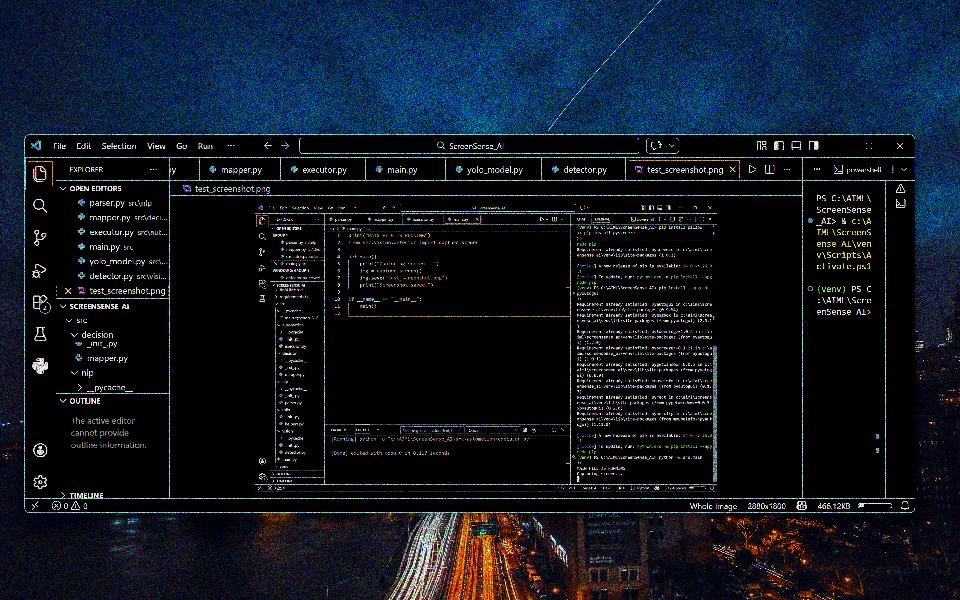close_button: (892, 137, 907, 154)
maximize_button: (859, 137, 879, 154)
minimize_button: (830, 137, 848, 155)
